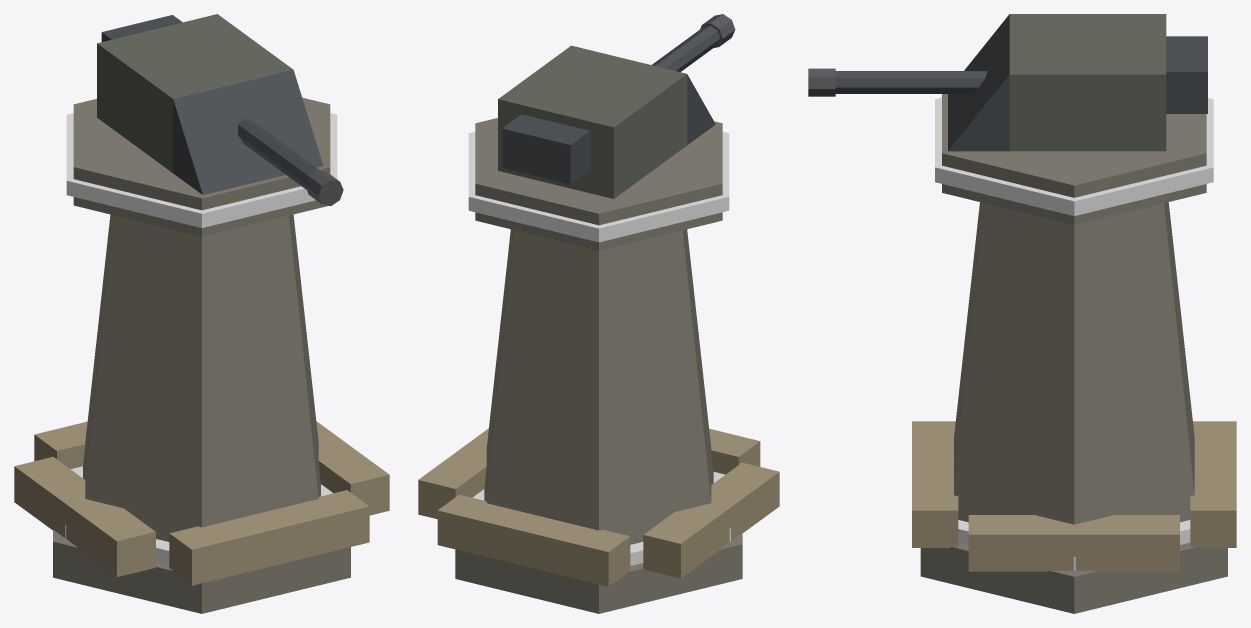
File: RF_Structure_Turret_Intact.glb
3 renders of one model, left to right at view 1: azimuth 30°, elevation 25°; view 2: azimuth 150°, elevation 25°; view 3: azimuth 270°, elevation 25°, orthographic. The views are drawn at different scales.
Parts seen in each view (by area): view 1: RF_Structure_Turret_Intact, Turret, TeamTrim, Muzzle; view 2: RF_Structure_Turret_Intact, Turret, TeamTrim, Muzzle; view 3: RF_Structure_Turret_Intact, Turret, TeamTrim, Muzzle.
Boxes of the visible parts, x1,y1,x2,y2 form: RF_Structure_Turret_Intact: (14, 97, 389, 613); Turret: (97, 14, 323, 194); TeamTrim: (65, 113, 337, 563); Muzzle: (305, 170, 343, 205); RF_Structure_Turret_Intact: (418, 118, 779, 613); Turret: (498, 25, 720, 198); TeamTrim: (468, 132, 730, 565); Muzzle: (700, 14, 735, 47); RF_Structure_Turret_Intact: (912, 94, 1236, 613); Turret: (835, 14, 1207, 151); TeamTrim: (935, 97, 1213, 570); Muzzle: (808, 68, 835, 96).
Size of the model in its own units: 2.6 by 4 by 3.14.
